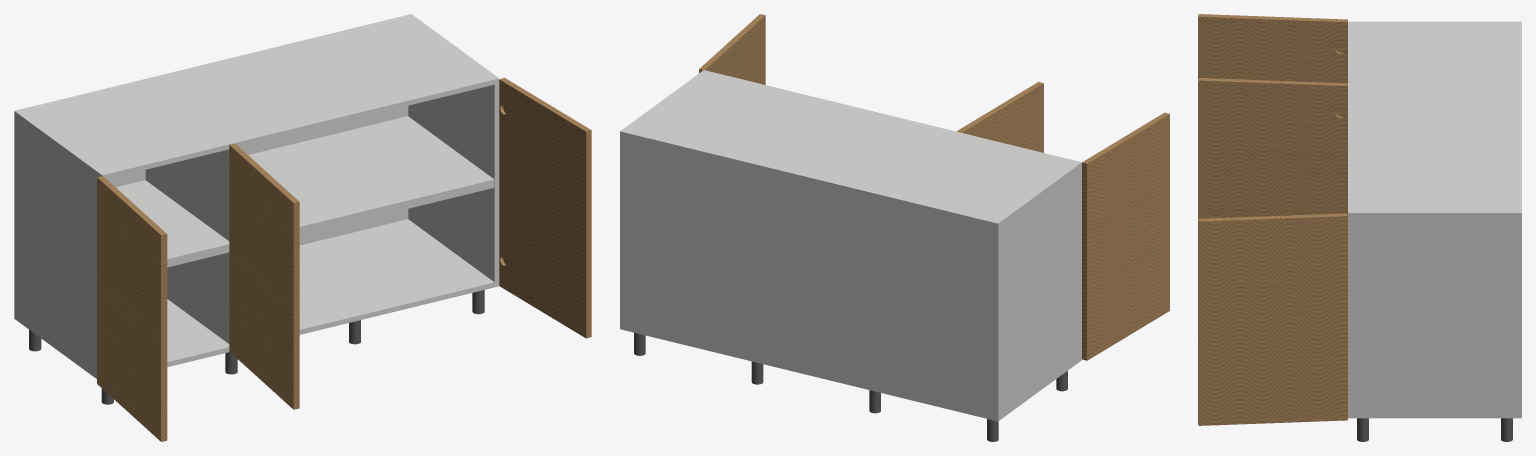
Rendered from w1500_onset_pair_open.glb.
The picture shows the model from 3 angles, left to right: view 1: azimuth 30°, elevation 25°; view 2: azimuth 150°, elevation 25°; view 3: azimuth 270°, elevation 25°; orthographic projection. The views are drawn at different scales.
Parts seen in each view (by area): view 1: white, oak, leg; view 2: white, oak, leg; view 3: white, oak, leg.
Boxes of the visible parts, x1,y1,x2,y2 form: white: (14,14,499,378); oak: (97,77,591,441); leg: (29,290,484,404); white: (620,70,1081,421); oak: (699,14,1169,360); leg: (634,332,1067,441); white: (1348,21,1521,418); oak: (1198,14,1347,425); leg: (1357,418,1512,441).
Bounding box in the file's own units: 1.63 × 0.85 × 1.07.
3 materials, 1 textured.
